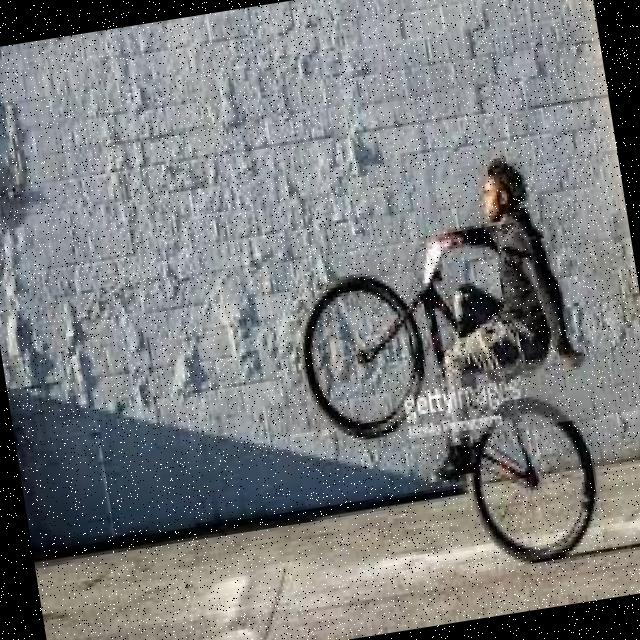Wheeling: (270, 139, 624, 598)
